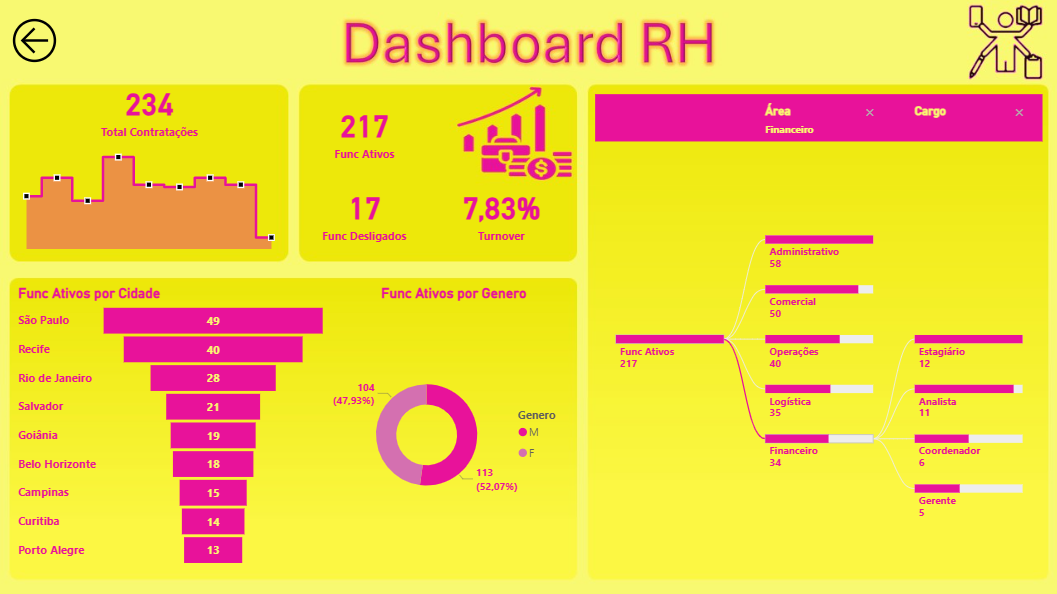

Layout of this report page (visuals, bound fields, positions):
{"tool":"powerbi","page":{"name":"Dashboard","canvas":[1280,720],"ordinal":0},"visuals":[{"type":"card","fields":{"Values":["medidas.total contratações"]},"box":[106.7,83.5,150.4,99],"z":0},{"type":"card","fields":{"Values":["medidas.func ativos"]},"box":[366.3,109.2,150.4,99],"z":1},{"type":"card","fields":{"Values":["medidas.func desligados"]},"box":[366.3,208.2,150.4,99],"z":2},{"type":"card","fields":{"Values":["medidas.turnover"]},"box":[530.8,208.2,150.4,99],"z":3},{"type":"areaChart","fields":{"Category":["Plan1.Data de Contratacao.Variation.Hierarquia de datas.Ano"],"Y":["medidas.Total Contratações"]},"box":[19.3,172.2,325.1,134.9],"z":4},{"type":"funnel","fields":{"Category":["Plan1.Cidade"],"Y":["medidas.Func Ativos"]},"box":[19.3,344.6,381.9,343.4],"z":5},{"type":"donutChart","fields":{"Category":["Plan1.Genero"],"Y":["medidas.Func Ativos"]},"box":[401.2,344.6,296.4,342.2],"z":6},{"type":"decompositionTreeVisual","fields":{"Analyze":["medidas.Func Ativos"],"ExplainBy":["Plan1.Área","Plan1.Cargo"]},"box":[714.5,109.6,549.4,578.3],"z":7}]}

Visuals, with their boxes in screenshot pixels (x1, y1, x2, y2), scaled from the page's 1280x720 canvas onto the 1057x594 screenshot:
card - medidas.total contratações: box(88, 69, 212, 151)
card - medidas.func ativos: box(302, 90, 427, 172)
card - medidas.func desligados: box(302, 172, 427, 253)
card - medidas.turnover: box(438, 172, 563, 253)
areaChart - Plan1.Data de Contratacao.Variation.Hierarquia de datas.Ano x medidas.Total Contratações: box(16, 142, 284, 253)
funnel - Plan1.Cidade x medidas.Func Ativos: box(16, 284, 331, 568)
donutChart - Plan1.Genero x medidas.Func Ativos: box(331, 284, 576, 567)
decompositionTreeVisual - medidas.Func Ativos x Plan1.Área: box(590, 90, 1044, 568)
